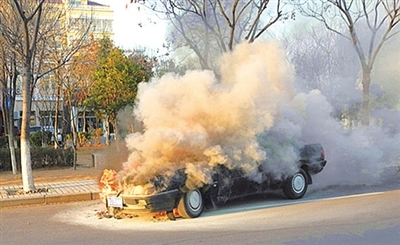smoke: (143, 54, 344, 148)
